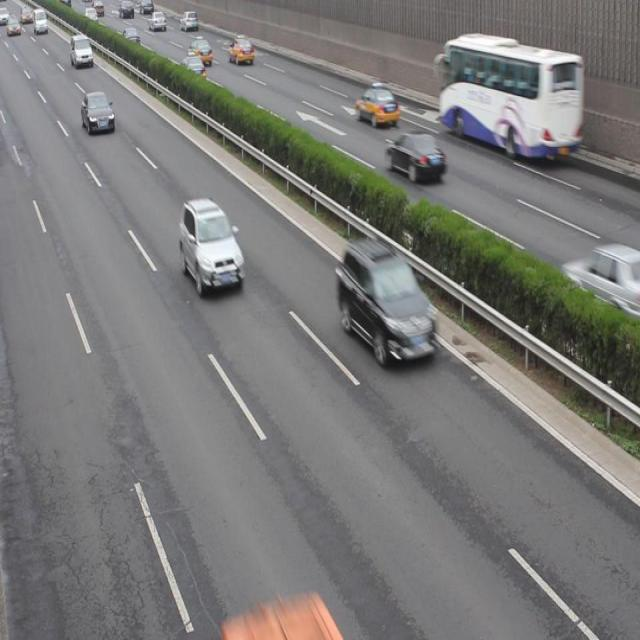car: (336, 240, 435, 362), (559, 244, 640, 325), (179, 195, 244, 294), (384, 128, 445, 180), (354, 82, 400, 126), (80, 91, 114, 135), (228, 34, 254, 64), (188, 35, 212, 66), (180, 53, 205, 81), (119, 27, 141, 48), (179, 11, 198, 30), (148, 12, 166, 32)
truck: (222, 591, 346, 640), (70, 36, 92, 64)
van: (432, 34, 582, 159)
